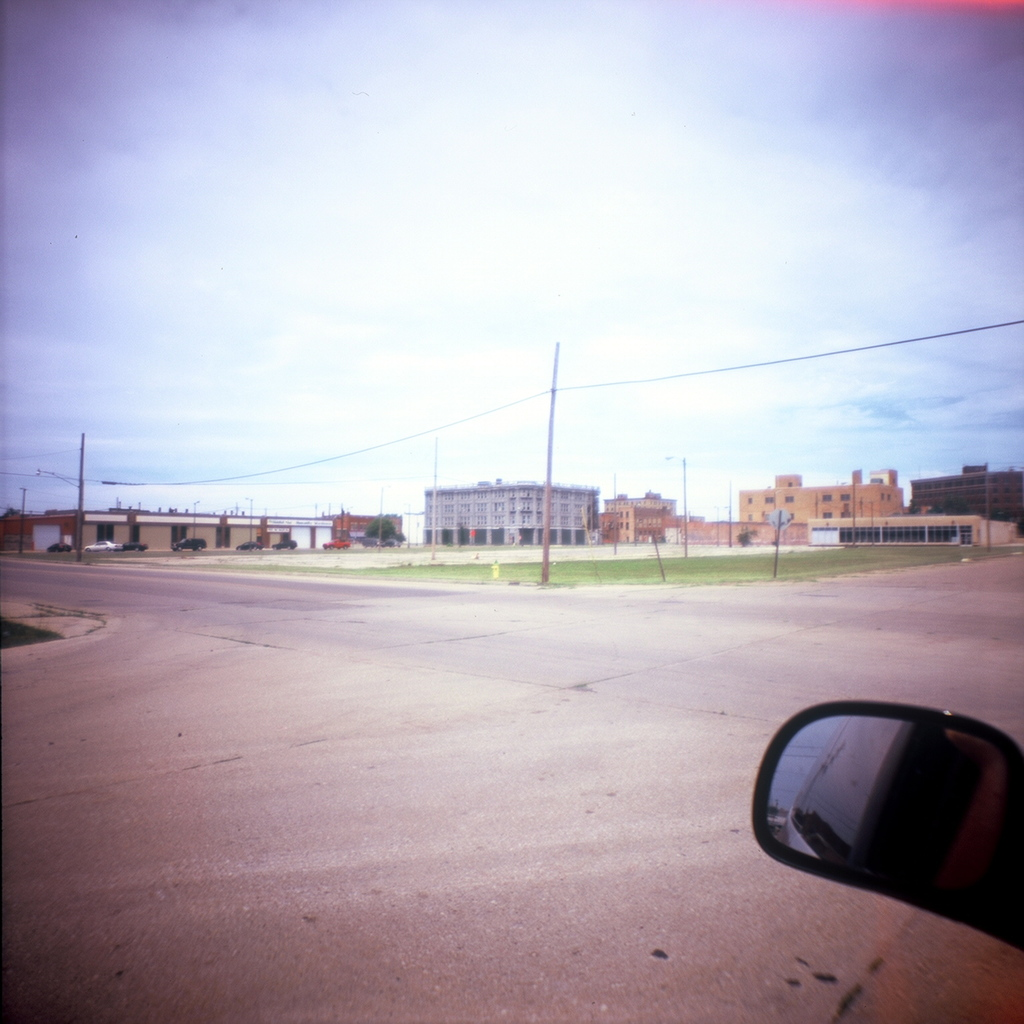Car: (754, 703, 1023, 951), (174, 539, 205, 547)
